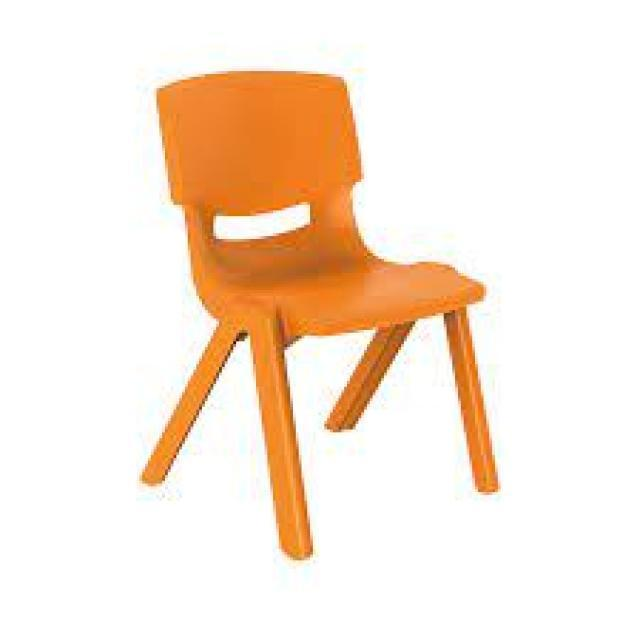chair: (140, 77, 500, 558)
